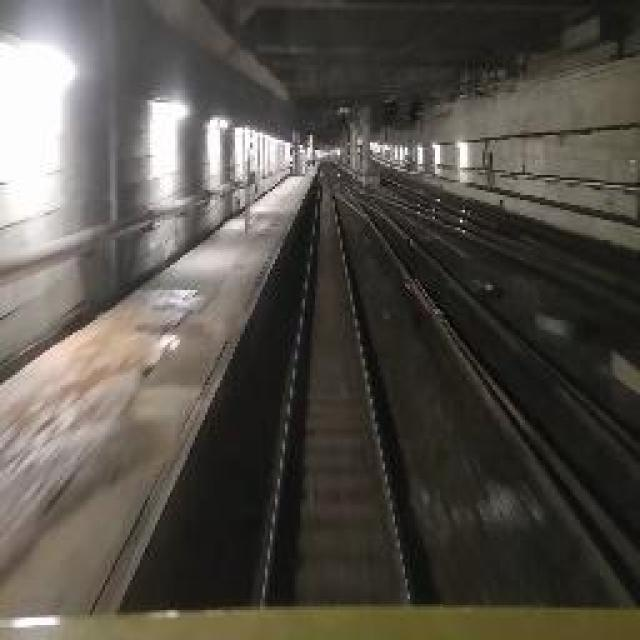rail: (224, 161, 444, 609)
